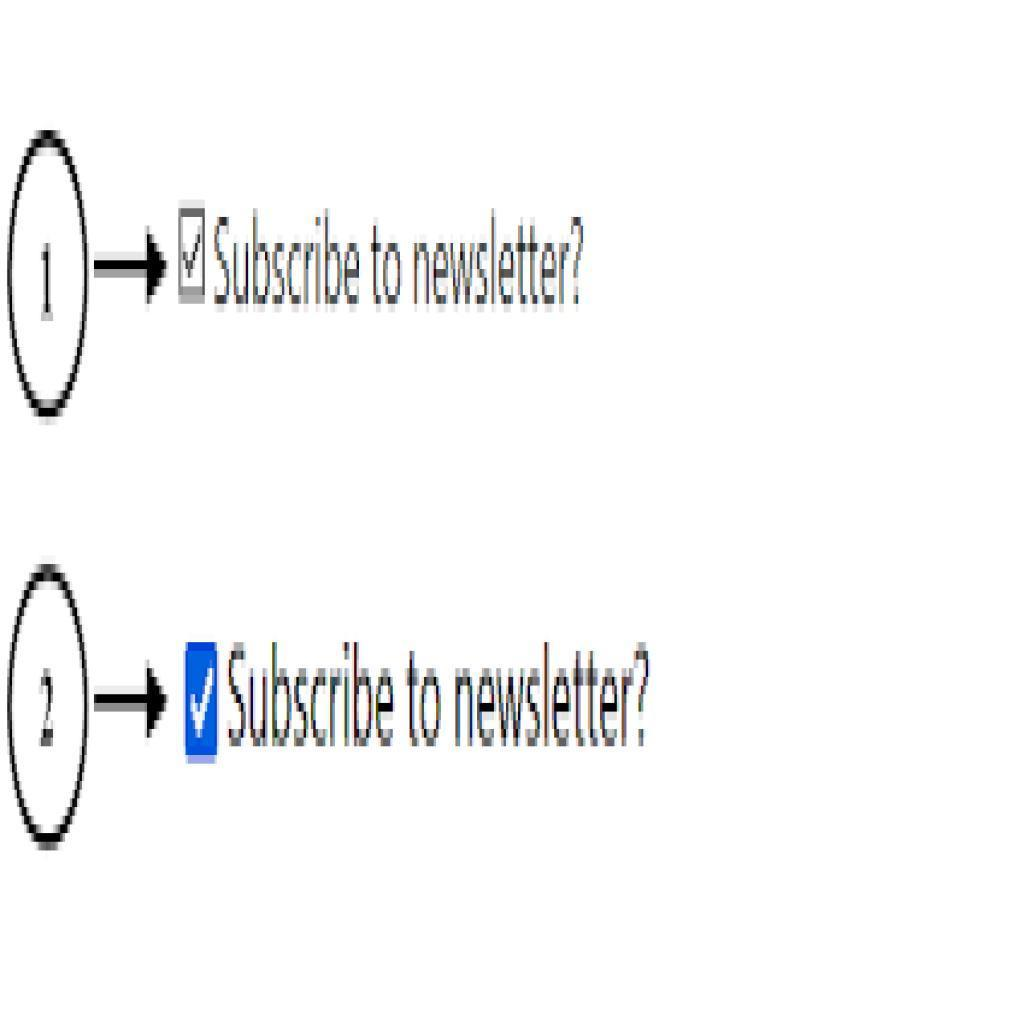checkbox: (186, 643, 221, 762), (179, 210, 208, 305)
label: (224, 637, 653, 753), (216, 211, 589, 312)
